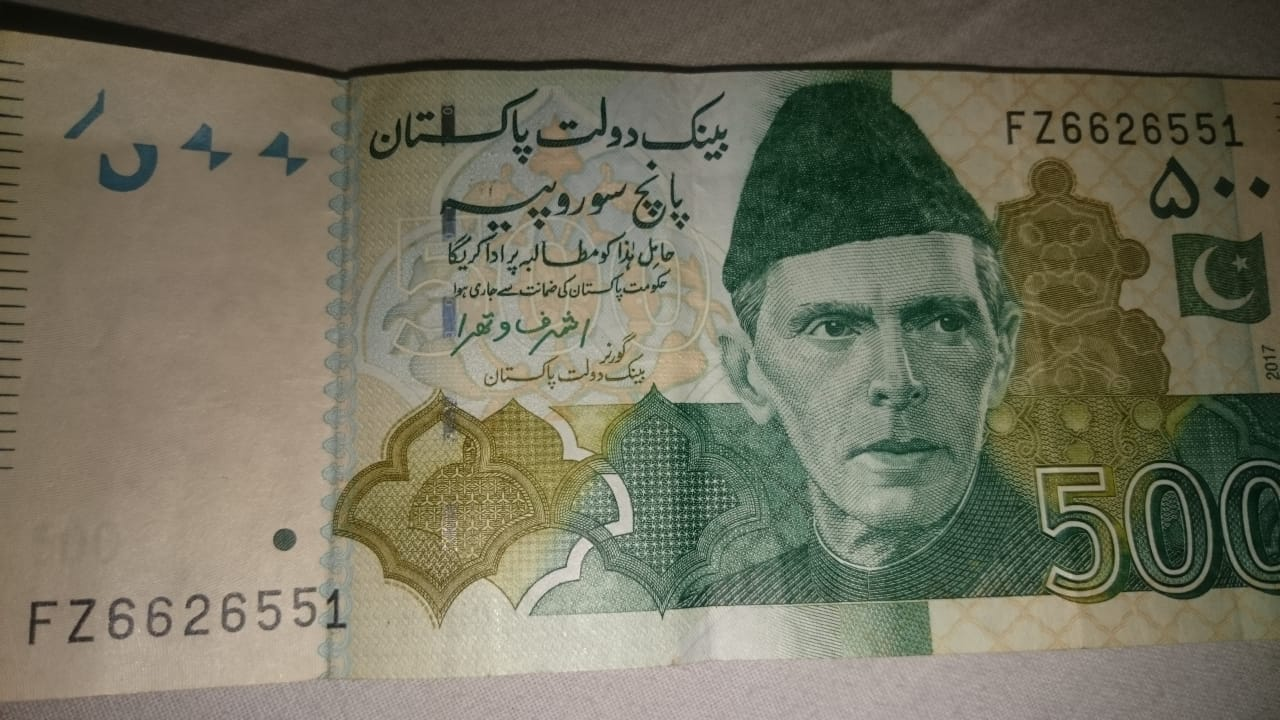500 rupee: (32, 28, 1272, 662)
